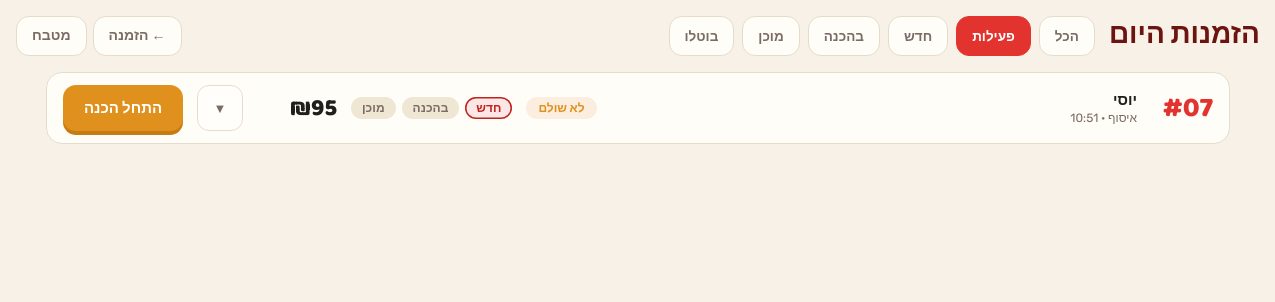
Scenario: orders list + cancel › marks a pickup order as self-collect instead of an address
Click the button named "הצג פרטים".
click(220, 108)  # box [197,85,243,131]
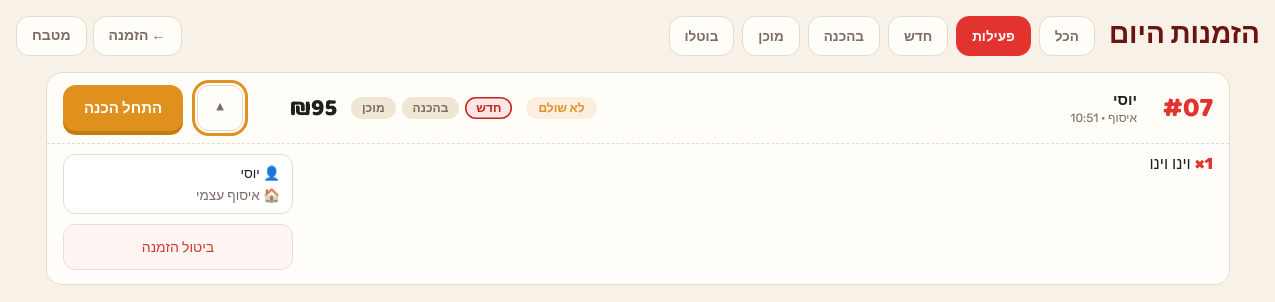
Check: the text "🏠 איסוף עצמי" is shown, box [196,187,280,203]
